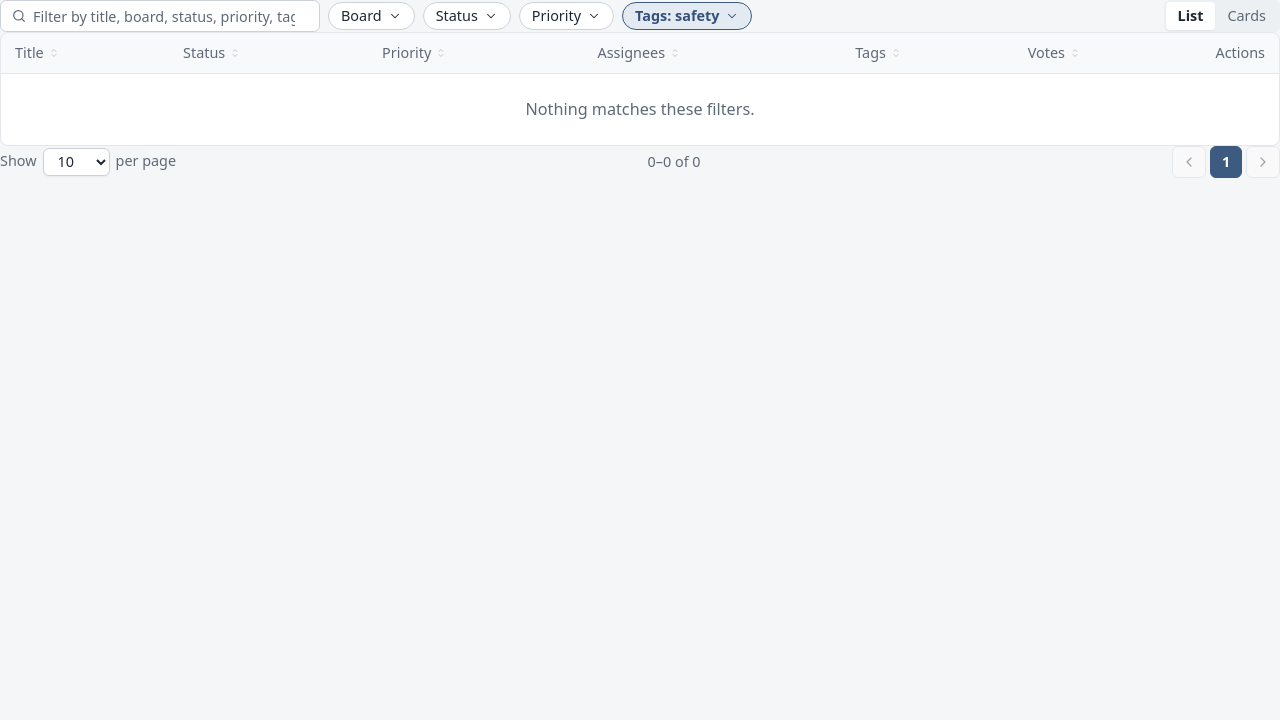
Scenario: Ideas Tags filter › does not add a stale option for a name the catalog still has
Click the button "Tags: safety": (687, 16) [622,2,752,30]
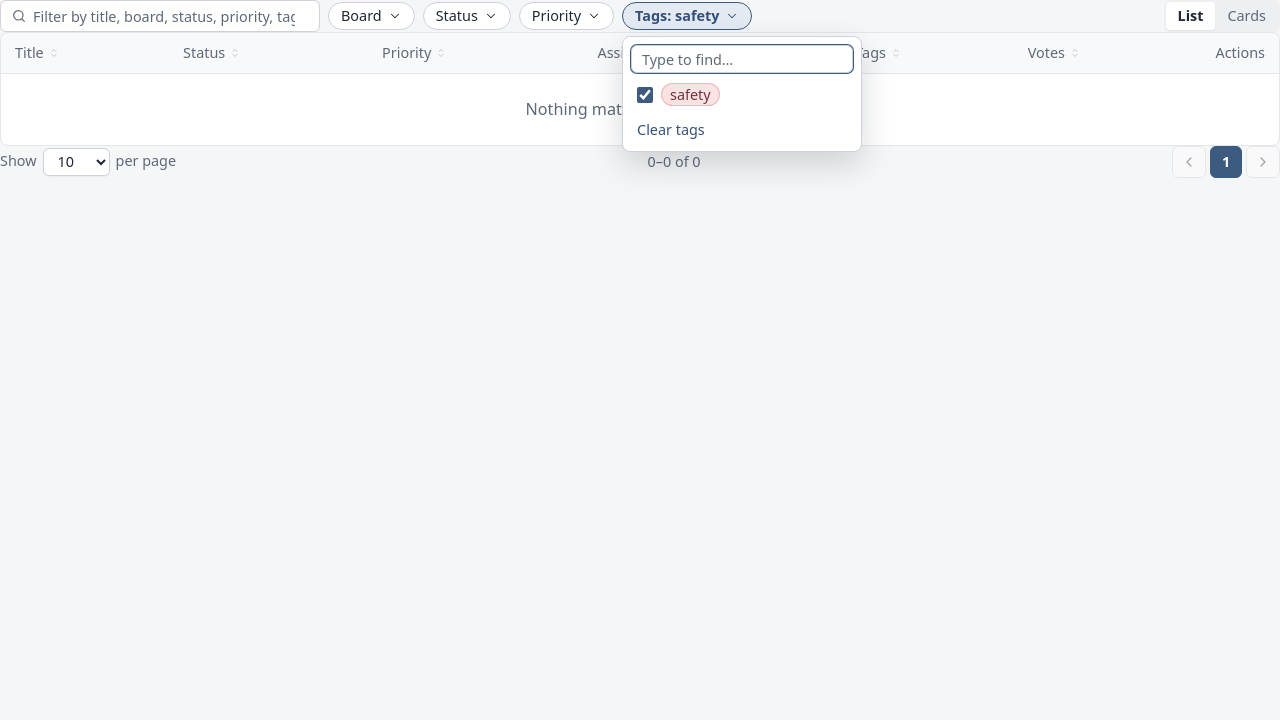
Expected: the number of checkboxes is 1, [637,87,653,103]
